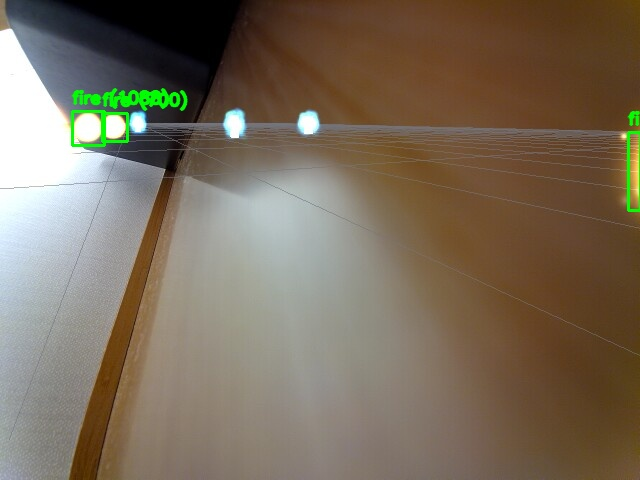fire: (72, 111, 104, 145), (628, 132, 640, 210), (102, 113, 127, 141)
